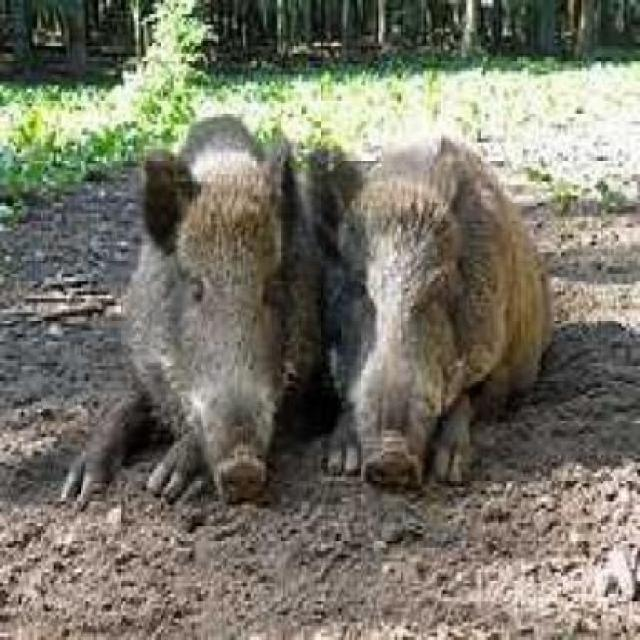pig: (74, 82, 304, 566), (306, 110, 576, 518)
